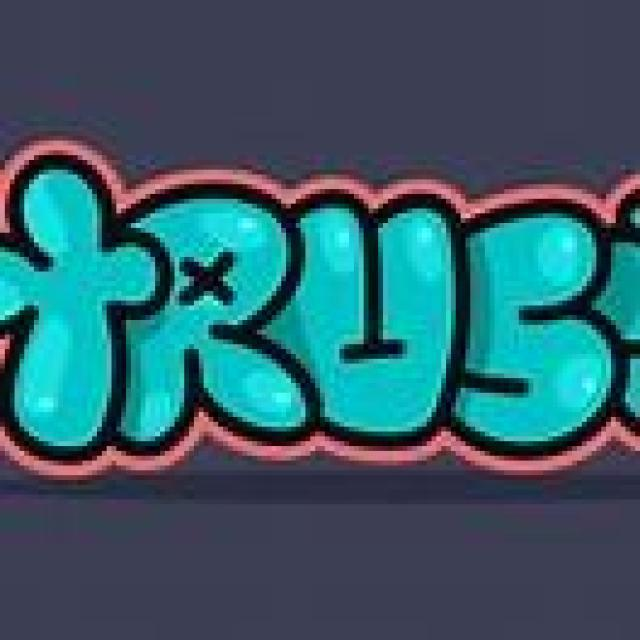nonspitting: (0, 136, 640, 467)
